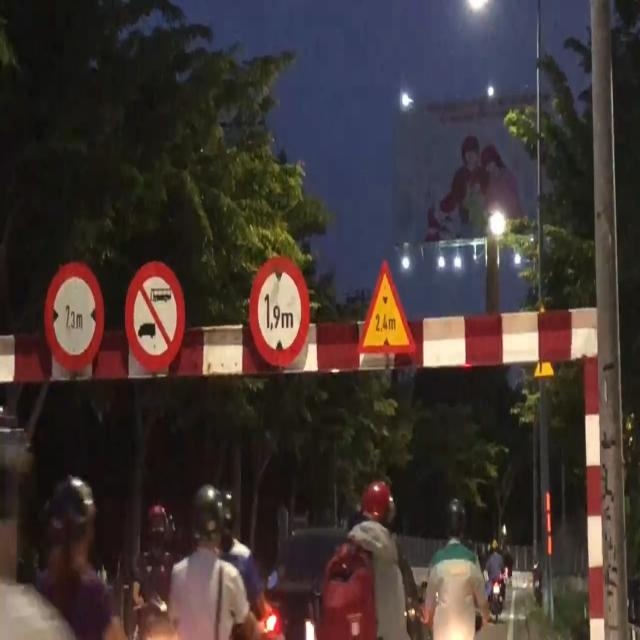Bien bao cam xe oto khach va xe oto tai: (123, 252, 191, 374)
Bien bao chieu cao tinh khong thuc te: (351, 248, 417, 358)
Bien bao han che chieu cao: (250, 248, 315, 368)
